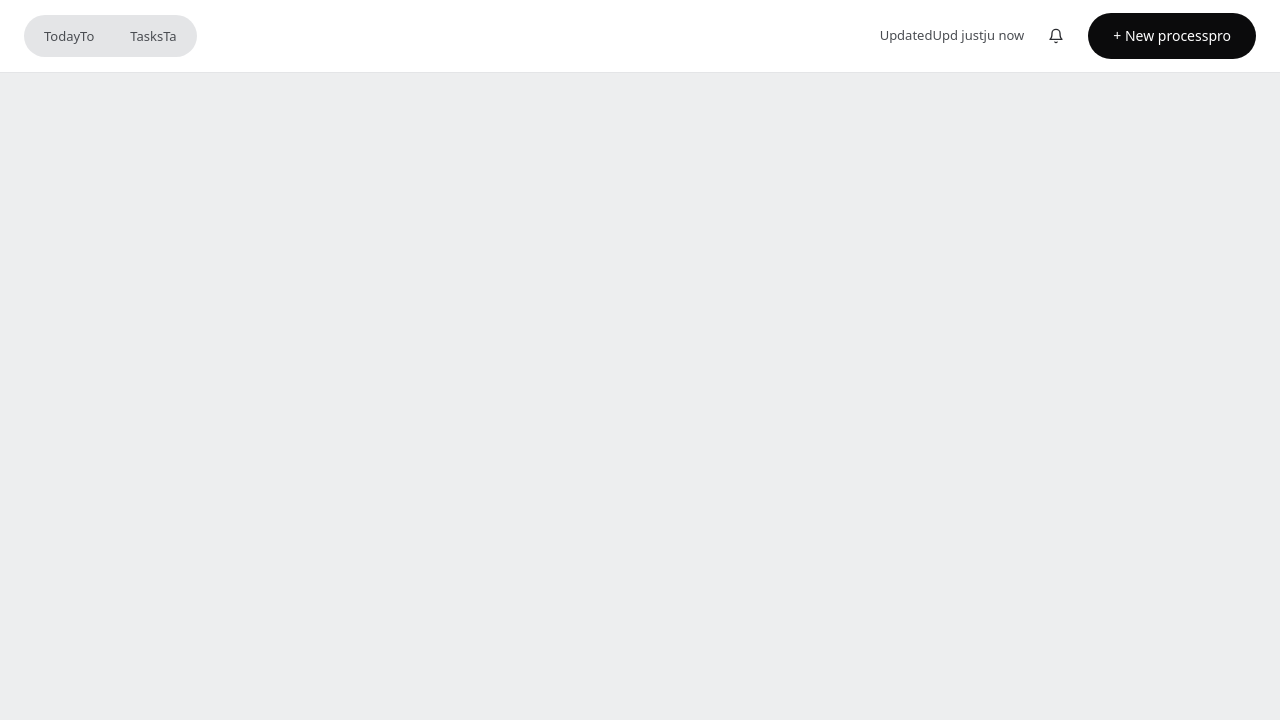
the inbox panel at 1280px, English at +30% › never forces the page body to scroll sideways
The image size is (1280, 720).
Step 1. Click the 3rd button → (1056, 36), box [1036,12,1076,60]
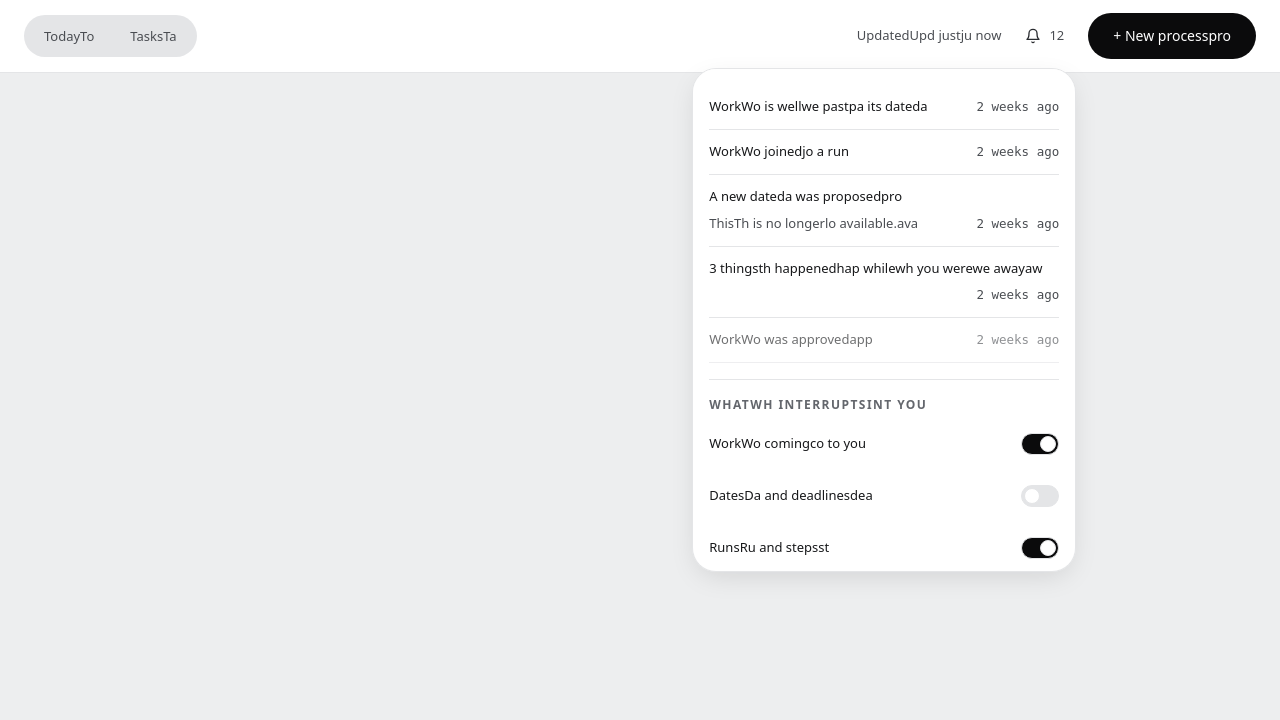
Check: the number of list items is 5, box [709,85,1059,130]; [709,130,1059,175]; [709,174,1059,247]; [709,247,1059,318]; [709,318,1059,363]
